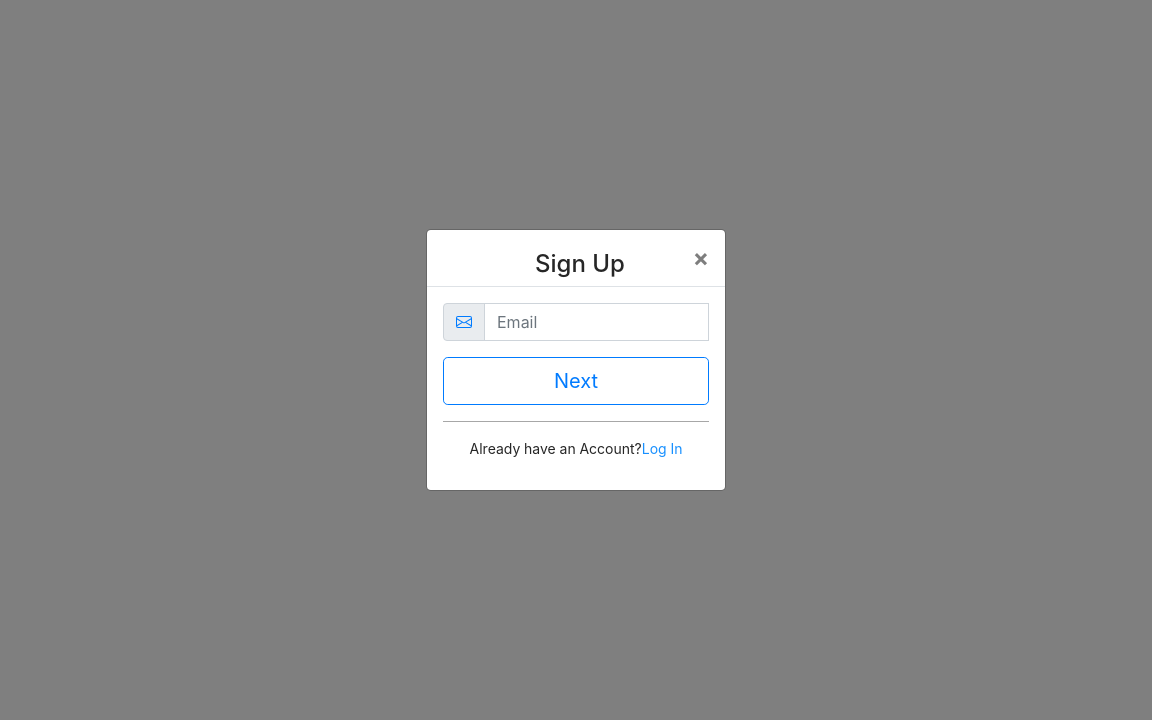
Test: signup page tests › entered valid new Email as input then back pressed
In the field with placeholder "Email": (596, 322) [484,303,709,341], type "9knight9n@gmail.com"
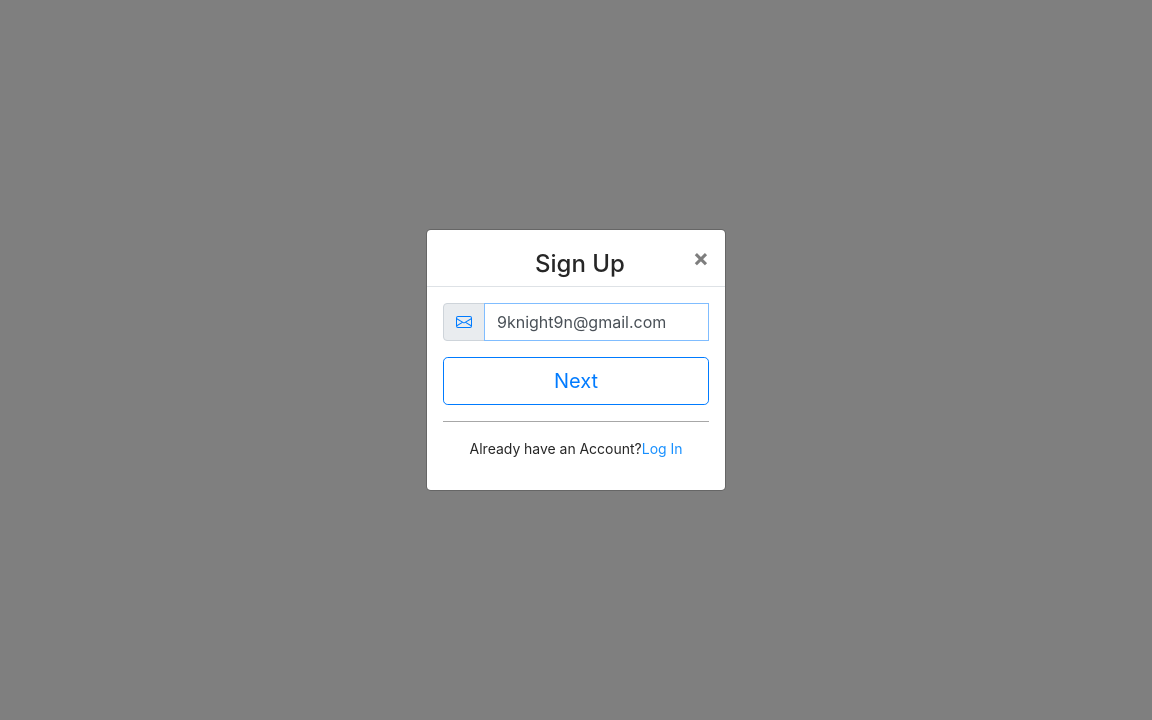
Click the button "Next": (576, 381) [443,357,709,405]
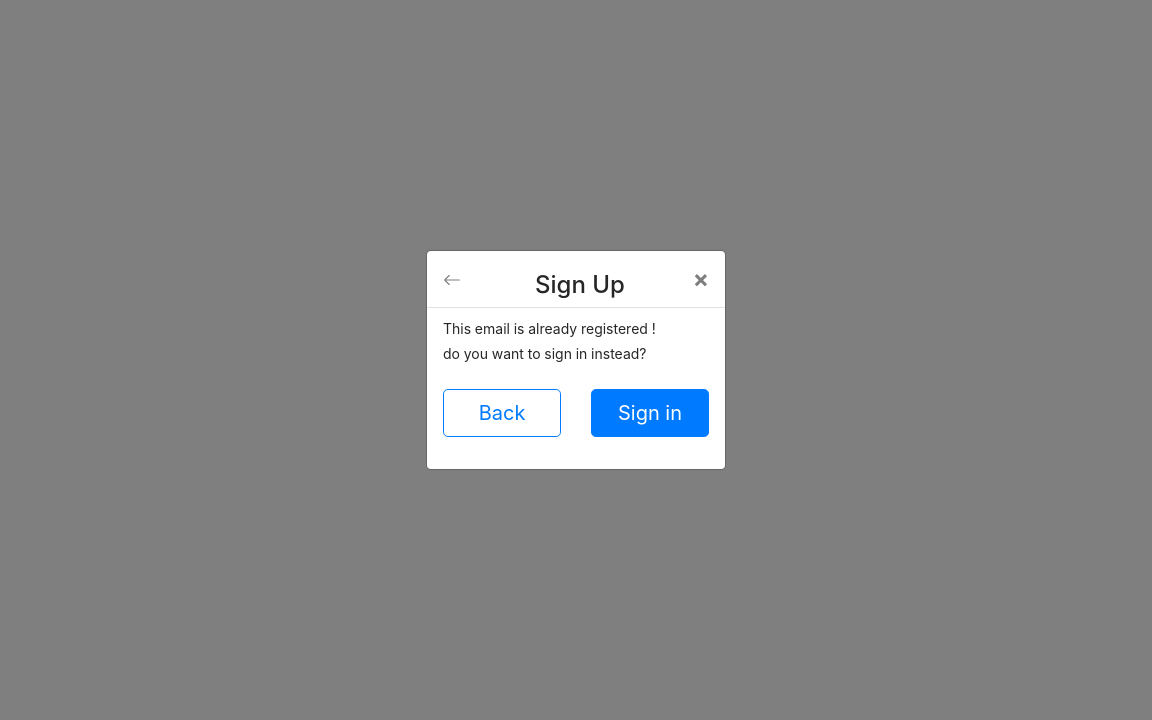
Expected: the button "Back" is shown
Click the button "Back": (502, 413) [443,389,561,437]
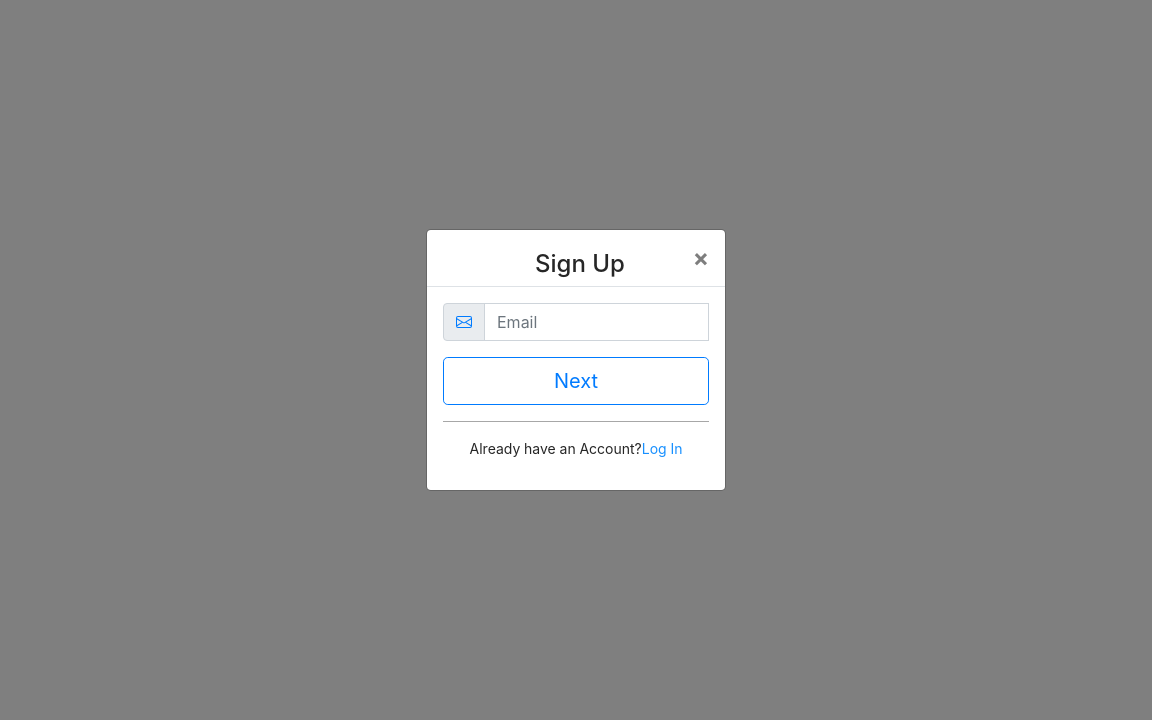
Expected: the field with placeholder "Email" is shown, [484,303,709,341]
